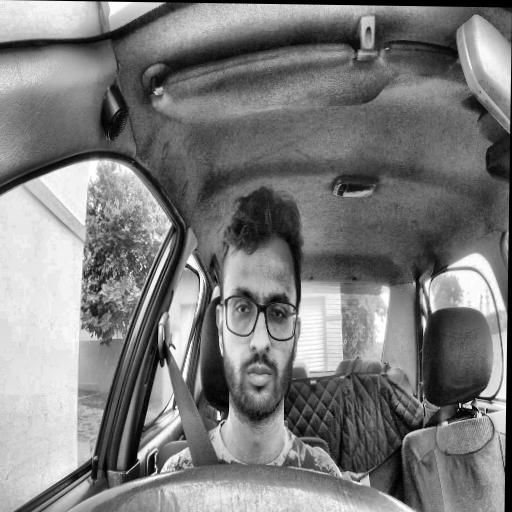awake: (214, 189, 304, 421)
